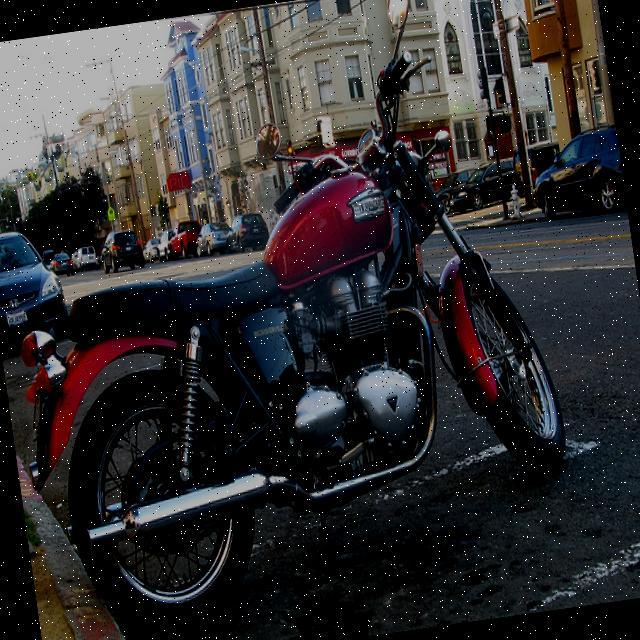fire_hydrant: (507, 183, 524, 217)
